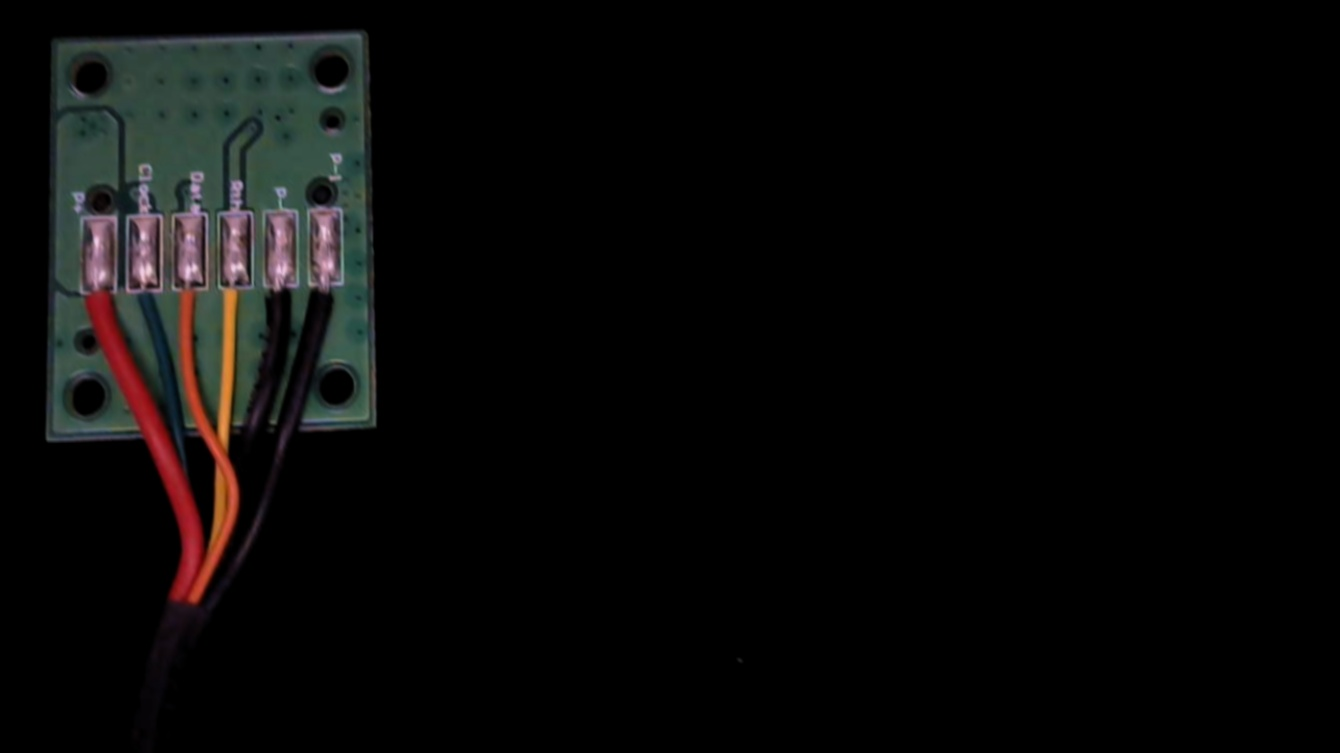Black: (258, 265, 297, 354)
Black1: (307, 263, 345, 344)
Green: (121, 268, 161, 352)
Orange: (170, 268, 208, 355)
Red: (75, 277, 116, 361)
Yellow: (213, 264, 253, 353)
